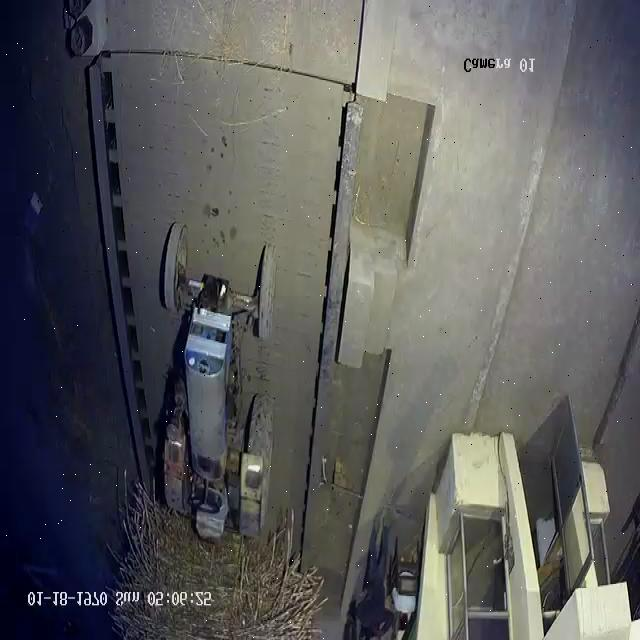Tratores - v5 YOLO V8L 2024-11-13: (159, 218, 276, 542)
